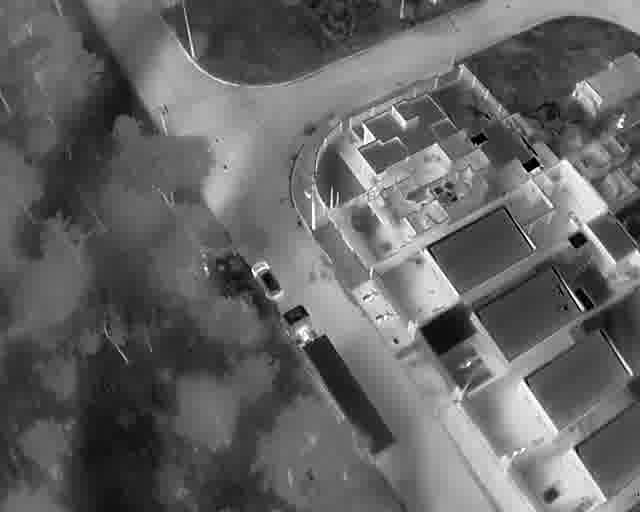car: (251, 260, 284, 301), (539, 481, 566, 505)
truck: (280, 305, 397, 457)
